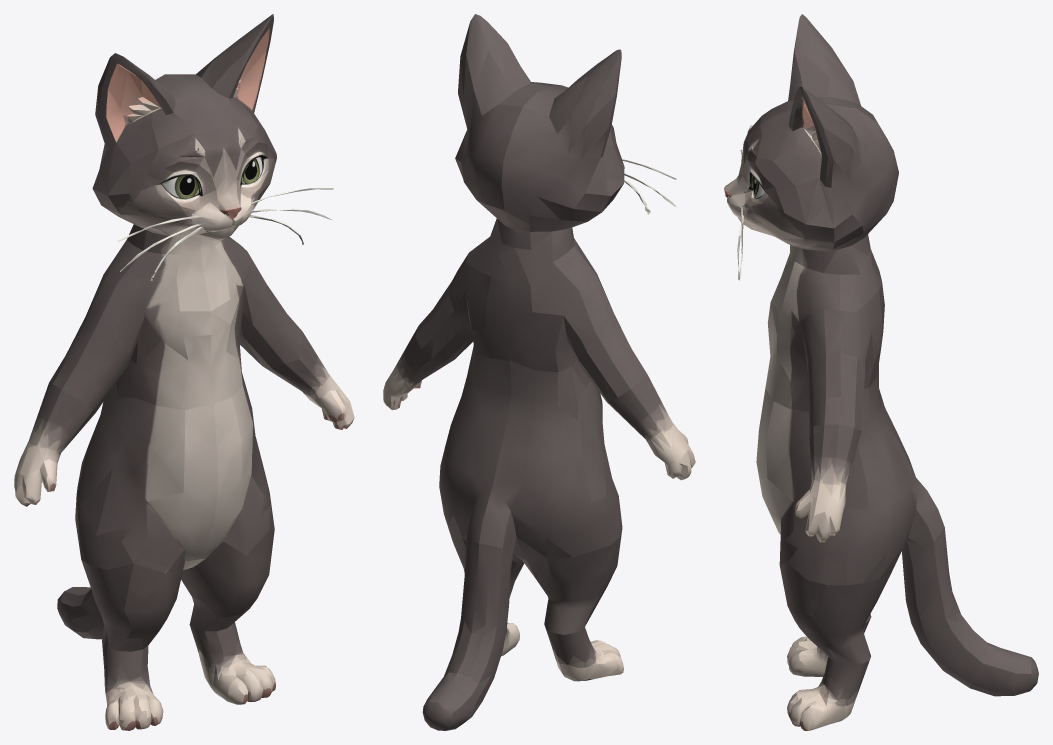
The model's file is cat.glb.
3 views of the same model, side by side, from view 1: azimuth 30°, elevation 25°; view 2: azimuth 150°, elevation 25°; view 3: azimuth 270°, elevation 25° (orthographic). The views are drawn at different scales.
Parts seen in each view (by area): view 1: output_unwrapped; view 2: output_unwrapped; view 3: output_unwrapped.
Boxes of the visible parts, x1,y1,x2,y2 form: output_unwrapped: (14, 14, 354, 730); output_unwrapped: (383, 14, 695, 730); output_unwrapped: (724, 14, 1038, 730).
Bounding box in the file's own units: 0.9802 × 1.9 × 0.8449.
Materials: 1 (1 with a texture image).
